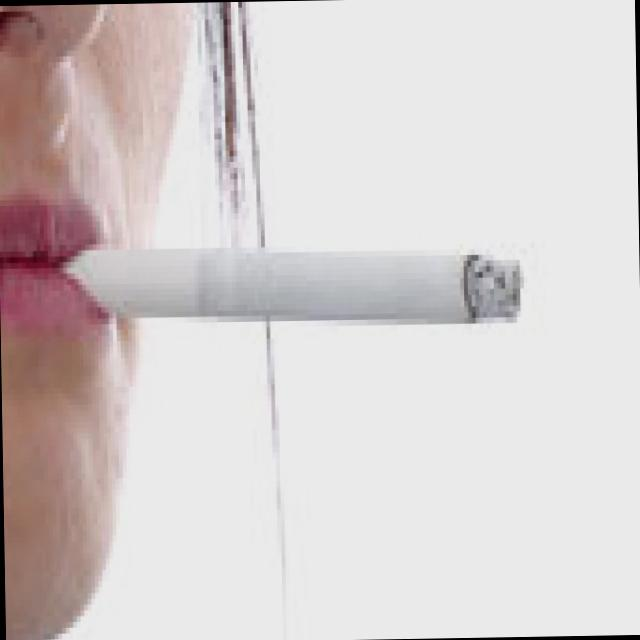cigarette: (105, 232, 532, 330)
